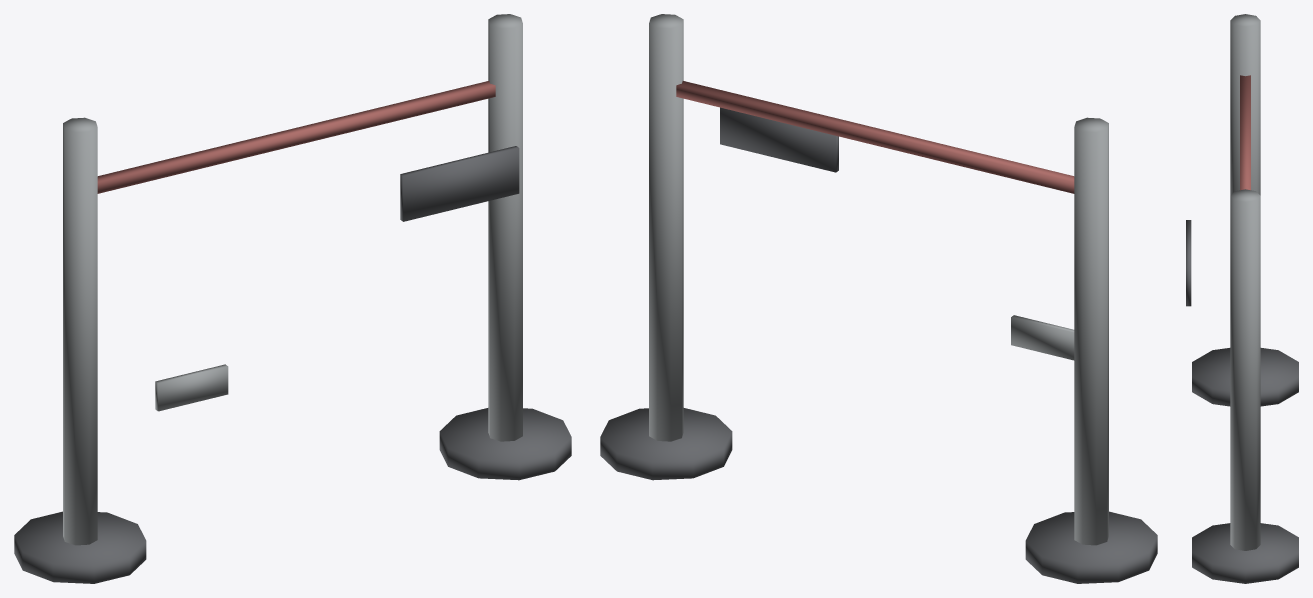
Rendered from museum_rope_barrier__weathered.glb.
3 views of the same model, side by side, from view 1: azimuth 30°, elevation 25°; view 2: azimuth 150°, elevation 25°; view 3: azimuth 270°, elevation 25° (orthographic). The views are drawn at different scales.
Visible parts, largest first — view 1: world; view 2: world; view 3: world.
Boxes of the visible parts, <box> form: world: <box>14,14,571,583</box>; world: <box>600,14,1157,583</box>; world: <box>1186,14,1298,583</box>.
Size of the model in its own units: 1.22 by 0.9306 by 0.2613.
